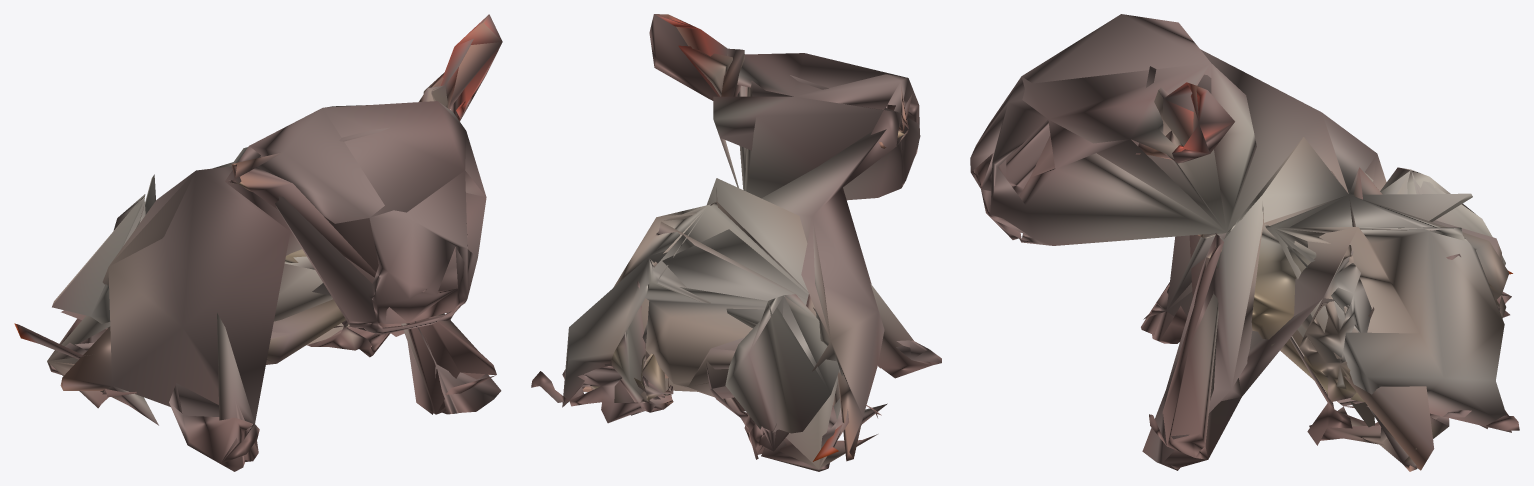
The model's file is gen3d-axolotl-lod1.glb.
3 views of the same model, side by side, from view 1: azimuth 30°, elevation 25°; view 2: azimuth 150°, elevation 25°; view 3: azimuth 270°, elevation 25° (orthographic). The views are drawn at different scales.
Parts seen in each view (by area): view 1: part_0; view 2: part_0; view 3: part_0.
Boxes of the visible parts, left/top/right/bottom form: part_0: left=14, top=14, right=502, bottom=471; part_0: left=531, top=14, right=941, bottom=471; part_0: left=970, top=14, right=1519, bottom=471.
Bounding box in the file's own units: 1 × 1 × 1.29.
